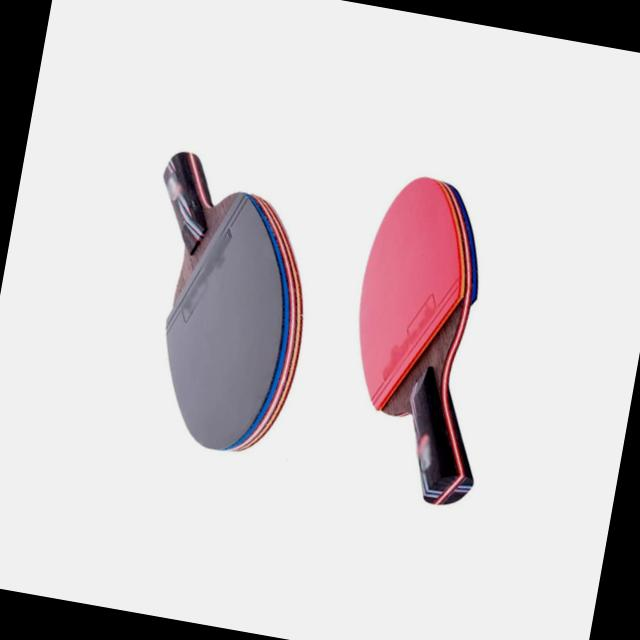TT Racket: (58, 111, 415, 546), (301, 106, 552, 485)
